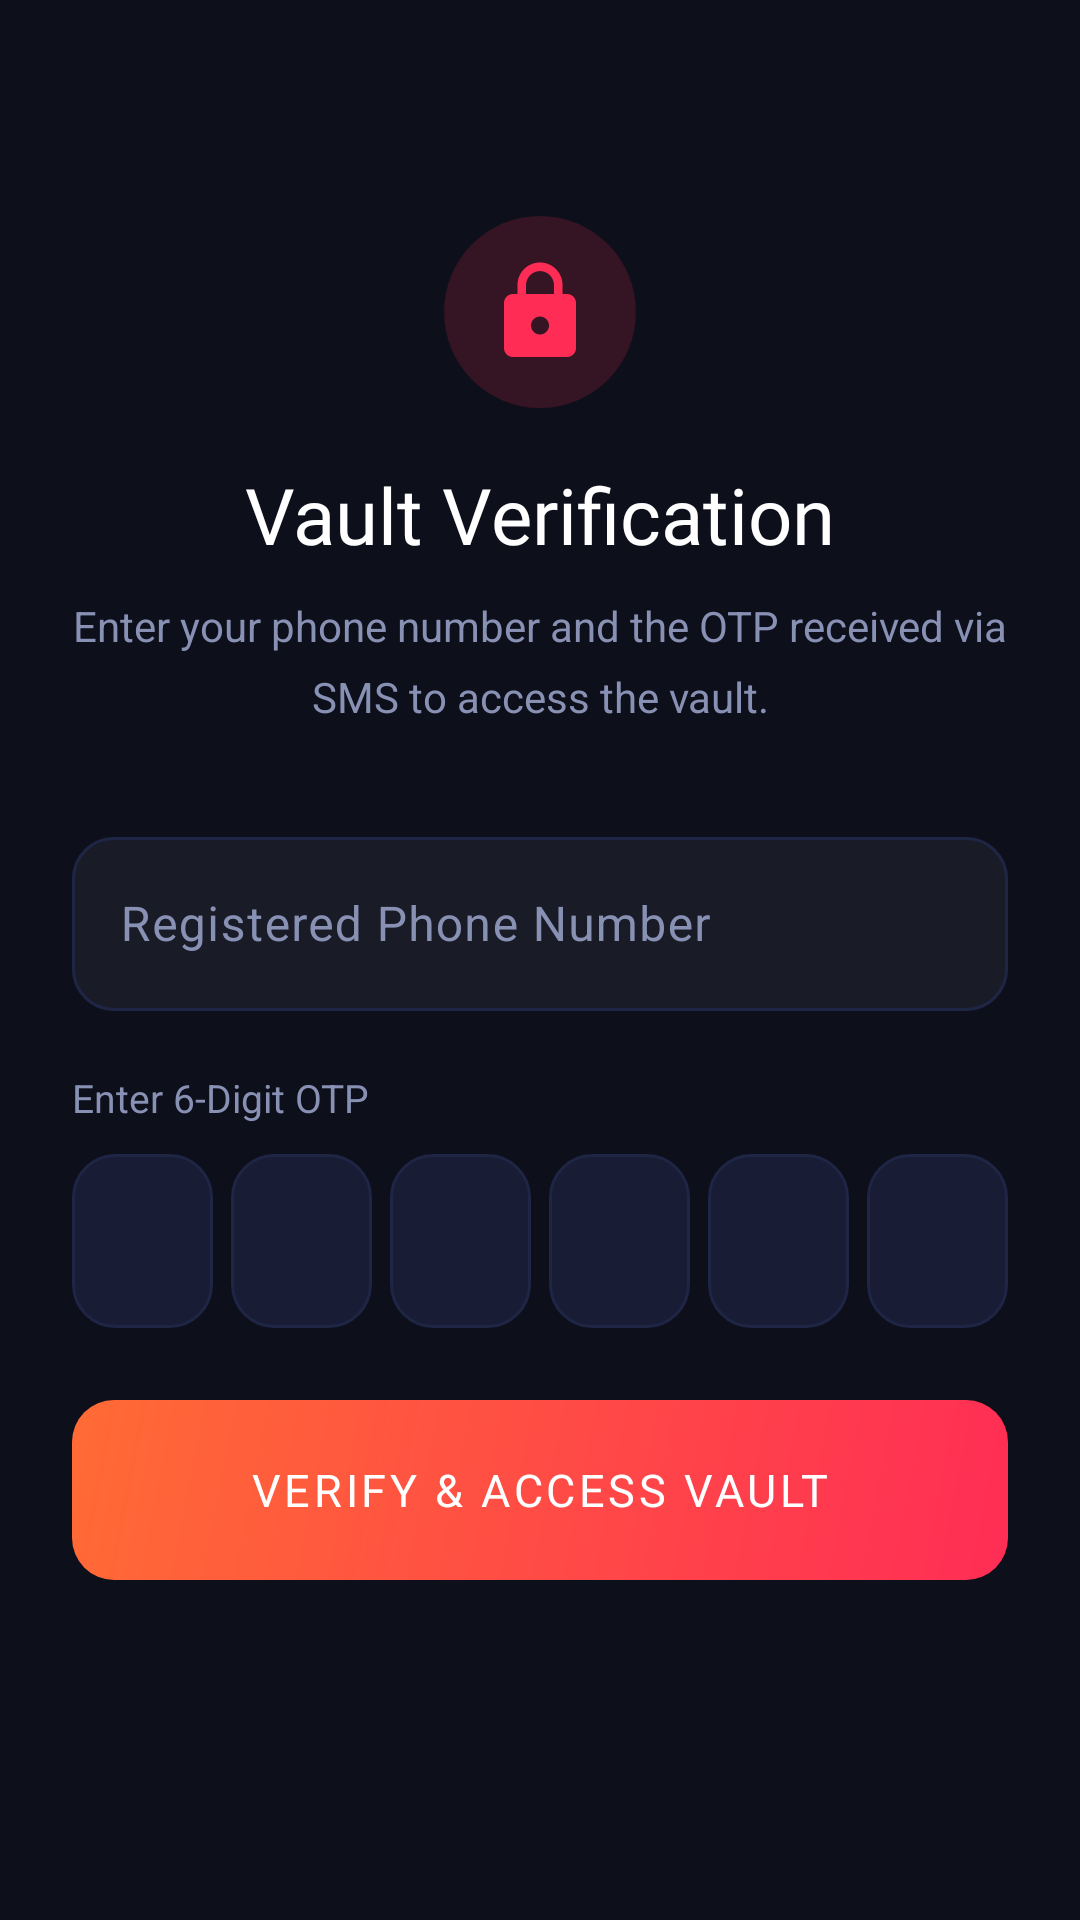

Point at icon controls on the screen. Image size 1080 x 1920, points as [x,y].
vault lock: [540,312]
